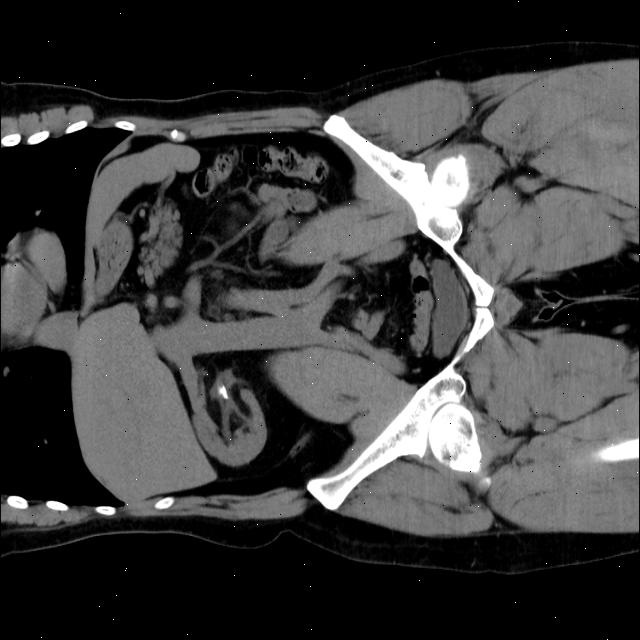kidneystone: (218, 384, 229, 400)
